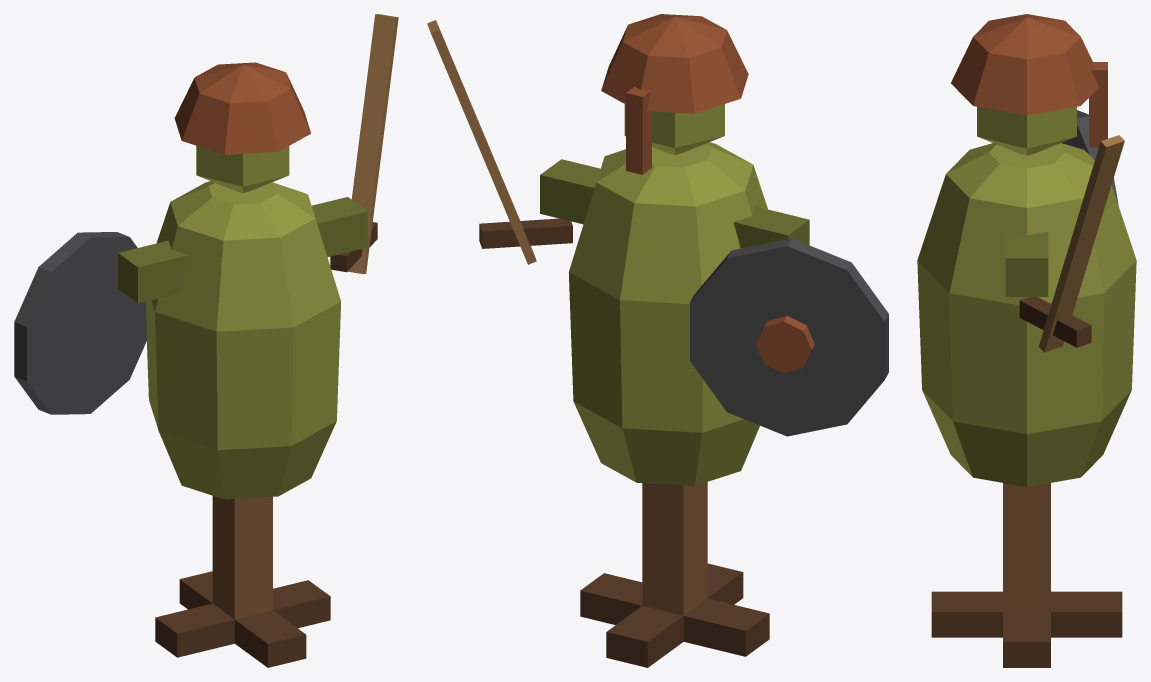
Rendered from vfem2_training_dummy.obj.
The picture shows the model from 3 angles, left to right: view 1: azimuth 30°, elevation 25°; view 2: azimuth 150°, elevation 25°; view 3: azimuth 270°, elevation 25°; orthographic projection. The views are drawn at different scales.
Parts seen in each view (by area): view 1: vfem2_training_dummy; view 2: vfem2_training_dummy; view 3: vfem2_training_dummy.
Part boxes in pixels (bbox=[...]): vfem2_training_dummy: bbox=[14, 14, 398, 667]; vfem2_training_dummy: bbox=[427, 14, 888, 667]; vfem2_training_dummy: bbox=[917, 14, 1136, 667].
Bounding box in the file's own units: 1.05 × 1.41 × 0.46.
